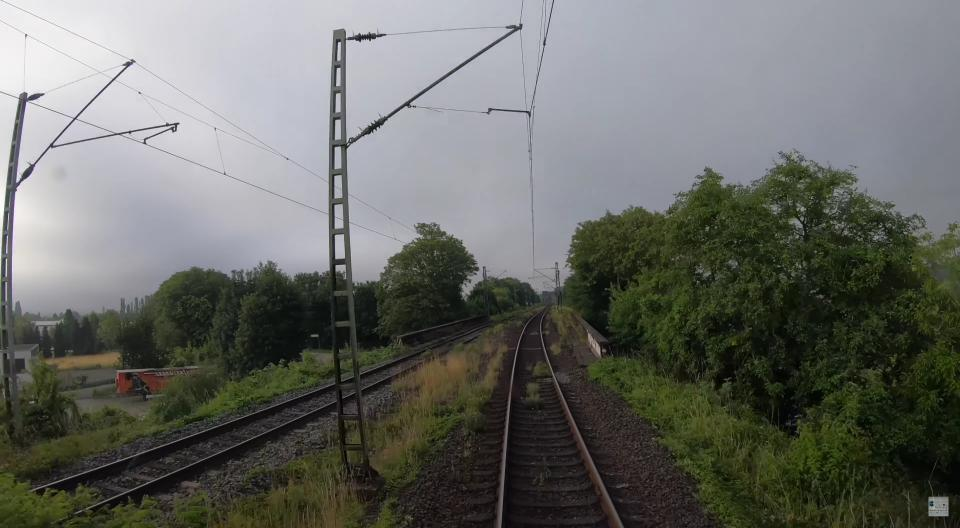Plant: (0, 319, 522, 528), (546, 306, 572, 355), (522, 382, 541, 409), (345, 421, 361, 444), (532, 361, 550, 378), (525, 361, 533, 371), (541, 330, 550, 336), (544, 321, 549, 329)
